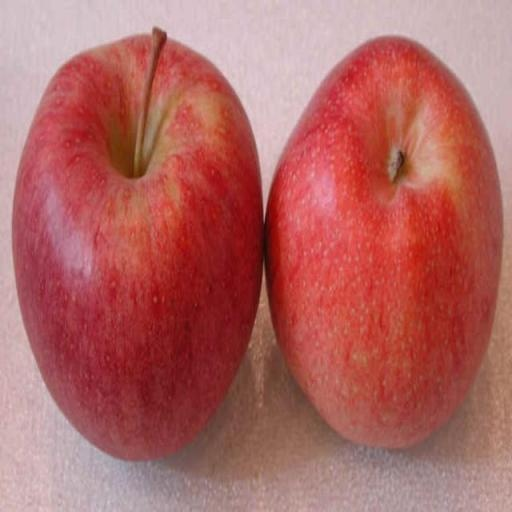fruit: (128, 133, 390, 473), (483, 134, 509, 486)
